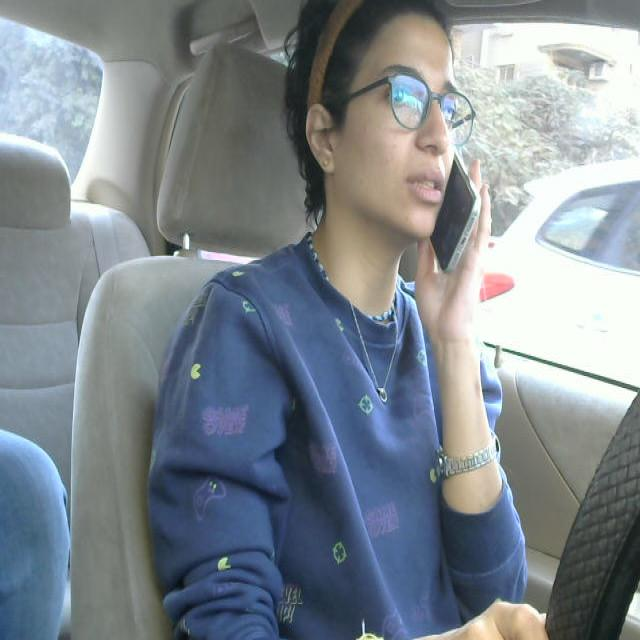mobile use: (431, 150, 476, 272)
